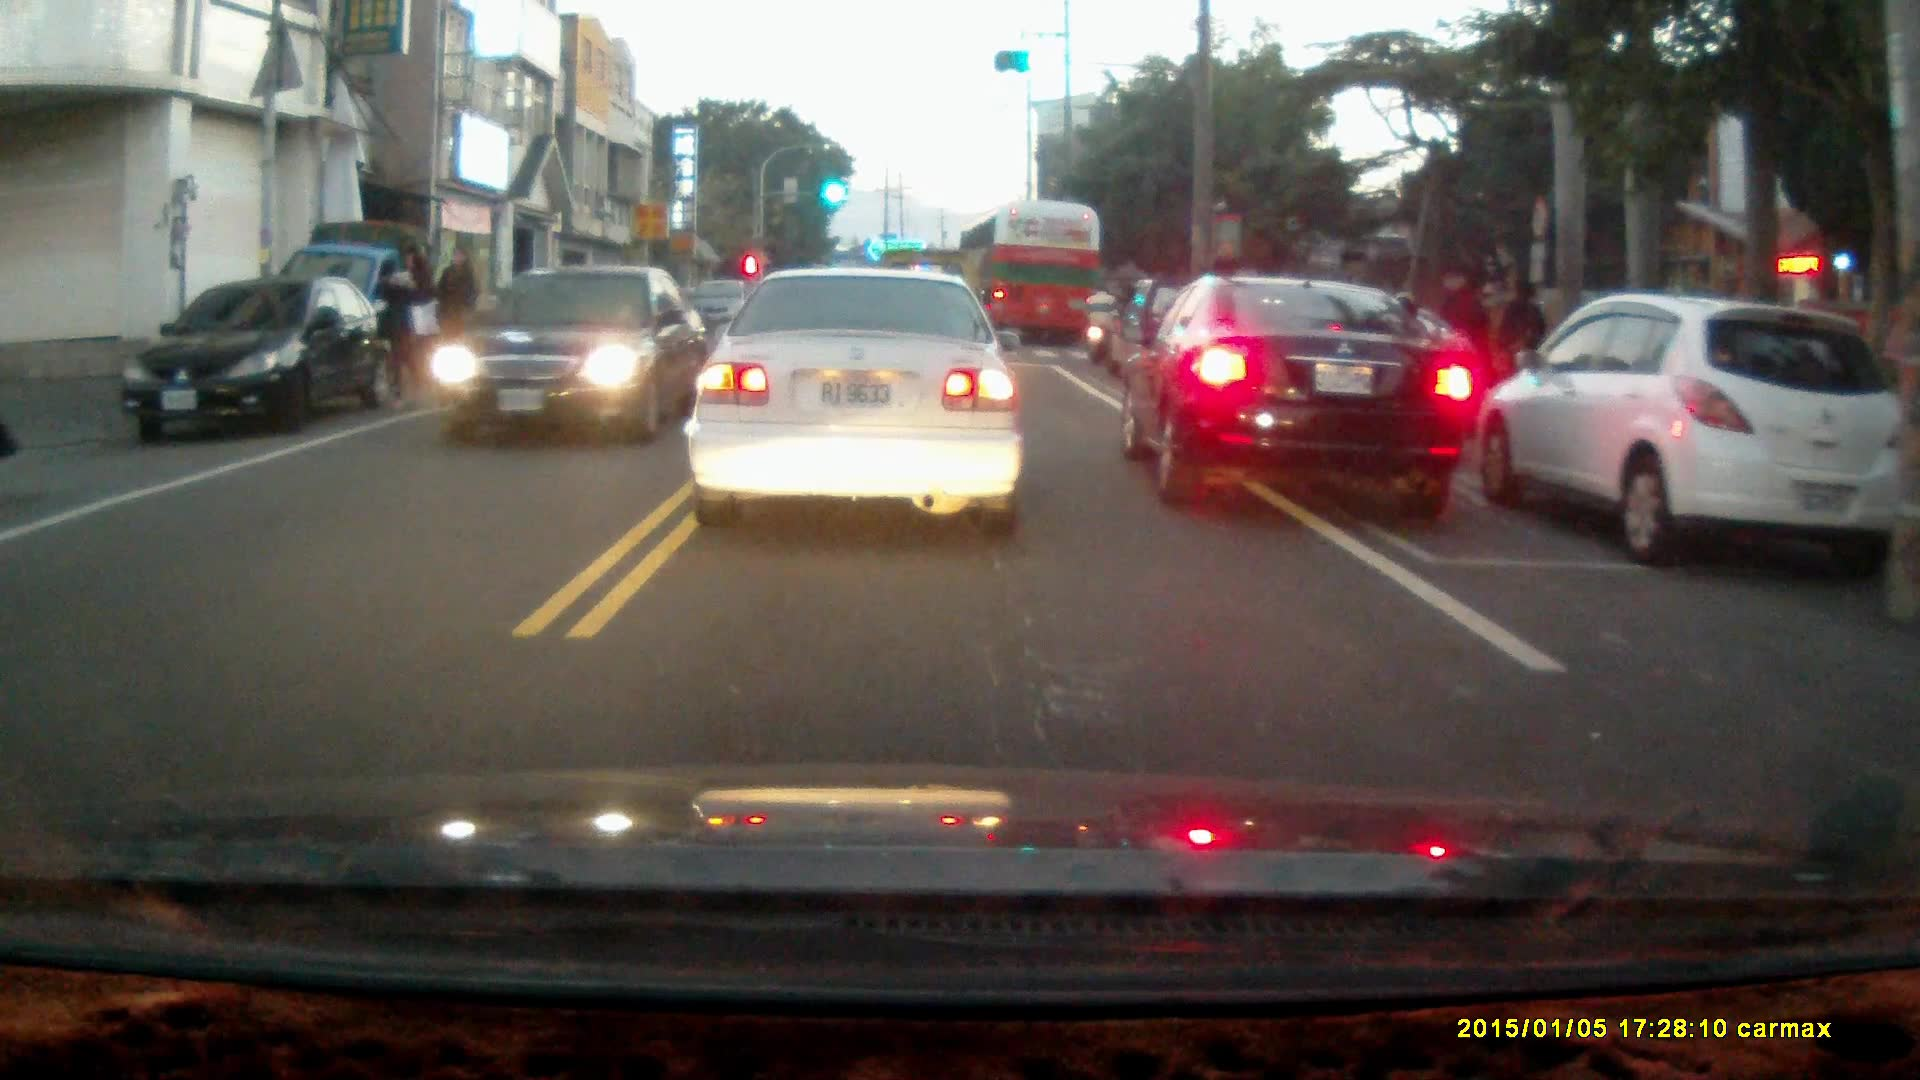pedestrian: (380, 246, 434, 403), (431, 241, 479, 393), (1493, 279, 1542, 406), (1444, 277, 1488, 396)
rider: (1079, 285, 1119, 366)
vehicle: (1466, 290, 1916, 564), (685, 263, 1028, 540), (1132, 277, 1480, 513), (431, 265, 699, 443), (121, 275, 379, 441), (264, 228, 474, 399), (960, 206, 1100, 349)
